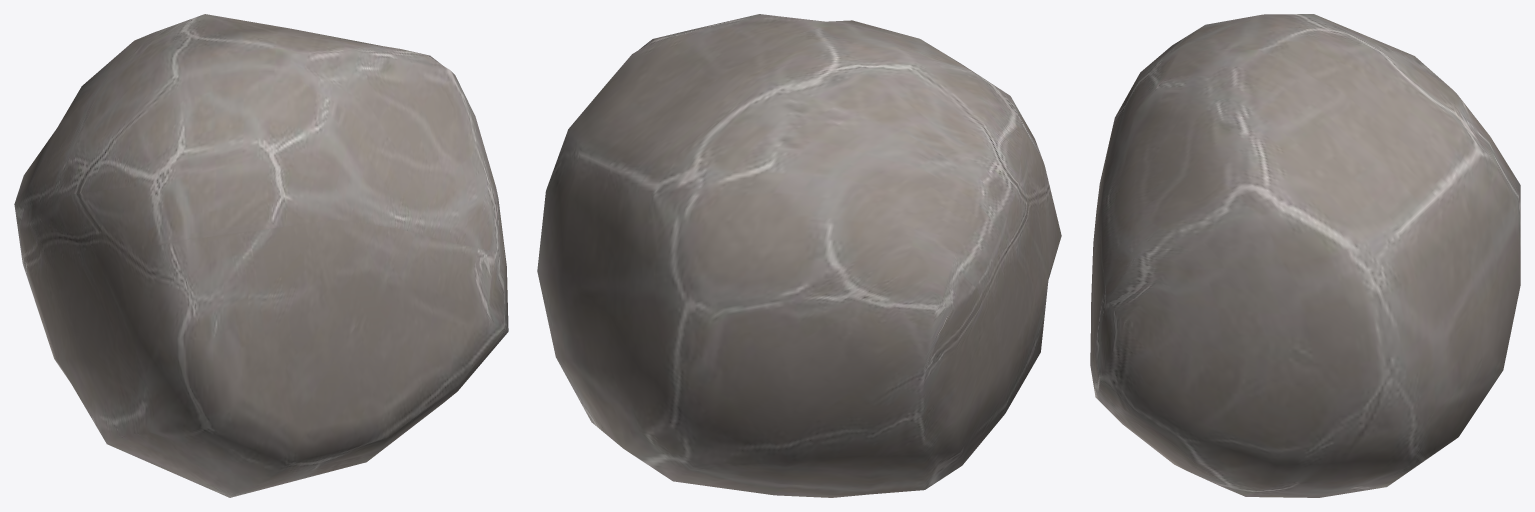
Rendered from SM_Rock_01.glb.
The picture shows the model from 3 angles, left to right: view 1: azimuth 30°, elevation 25°; view 2: azimuth 150°, elevation 25°; view 3: azimuth 270°, elevation 25°; orthographic projection. The views are drawn at different scales.
Parts seen in each view (by area): view 1: SM_Rock_01; view 2: SM_Rock_01; view 3: SM_Rock_01.
Part boxes in pixels (box(x1,y1,x2,y2)): SM_Rock_01: box(14, 14, 508, 497); SM_Rock_01: box(537, 14, 1061, 497); SM_Rock_01: box(1090, 14, 1520, 497).
Size of the model in its own units: 0.535 by 0.5428 by 0.4941.
1 material, 1 textured.
